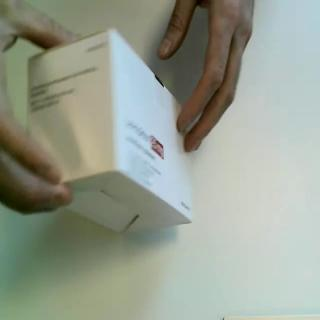levopidon25mg: (25, 24, 195, 236)
